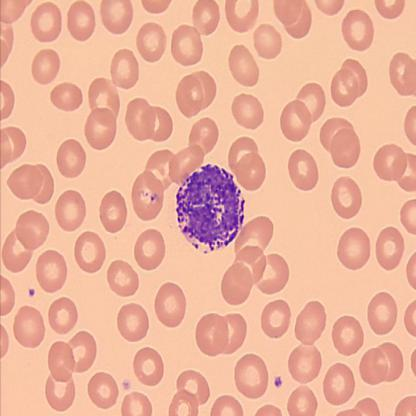Basophil: (172, 160, 247, 256)
